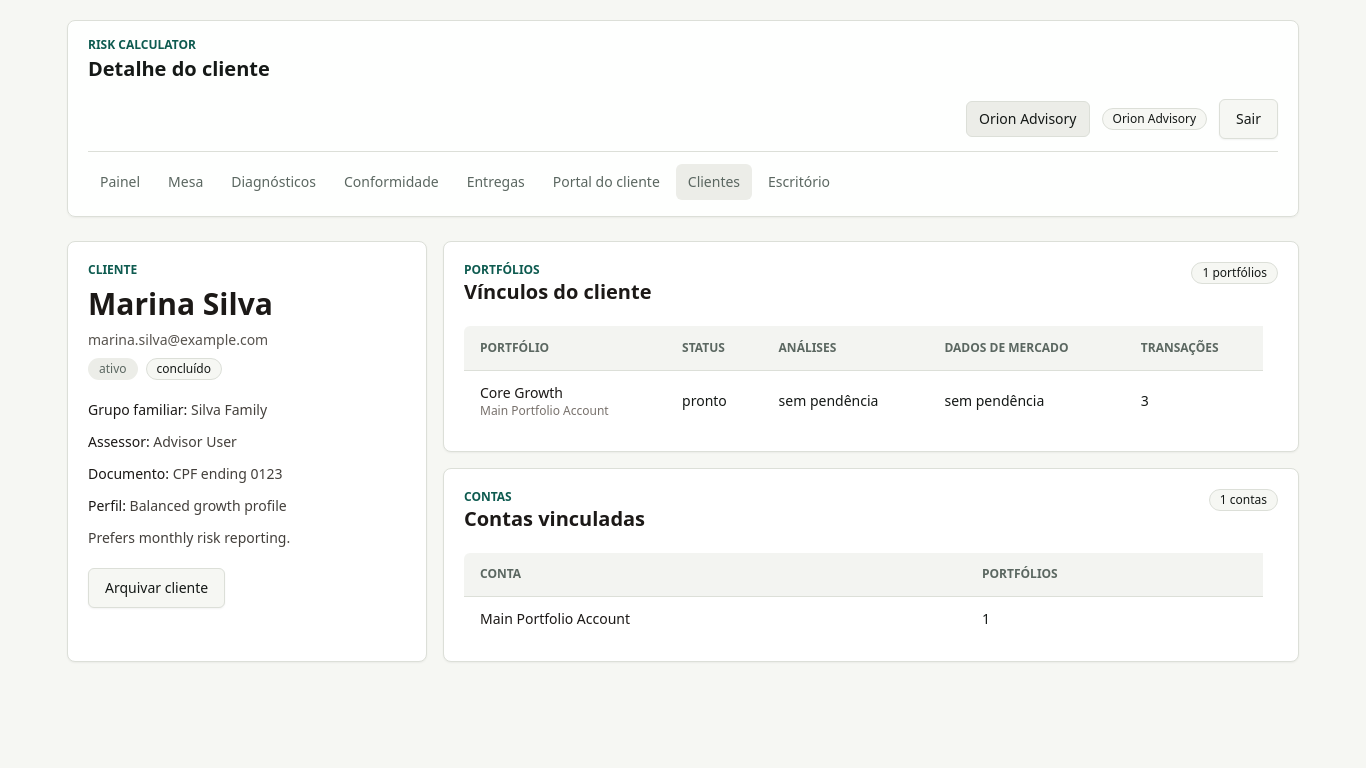
Test case: client pages › renders client detail and archives the client
The image size is (1366, 768).
expect the heading "Marina Silva" is shown: met, box [88,283,273,324]
expect the text "Main Portfolio Account" is shown: met, box [480,402,609,418]
Click the button "Arquivar cliente".
click(157, 588)  # box [88,568,225,608]
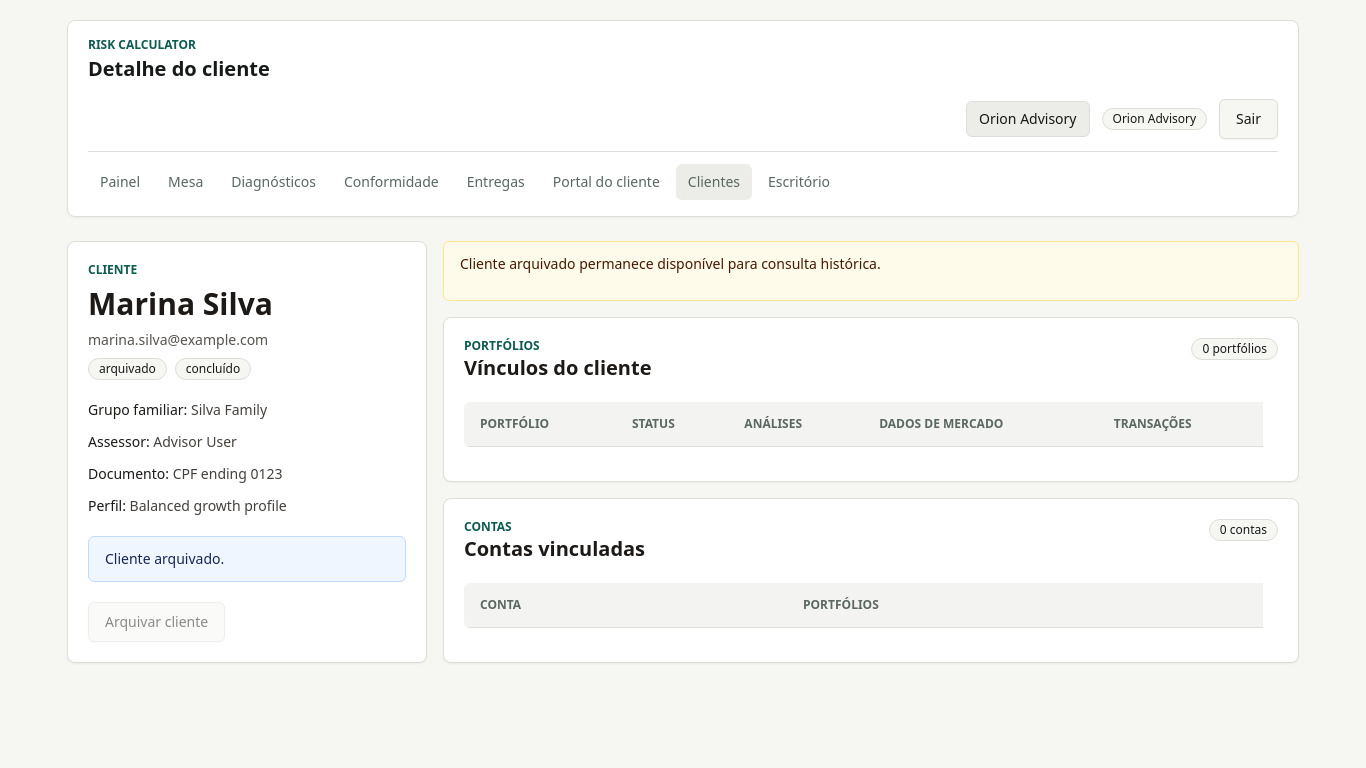
expect the text "Cliente arquivado." is shown: met, box [88,536,406,582]
